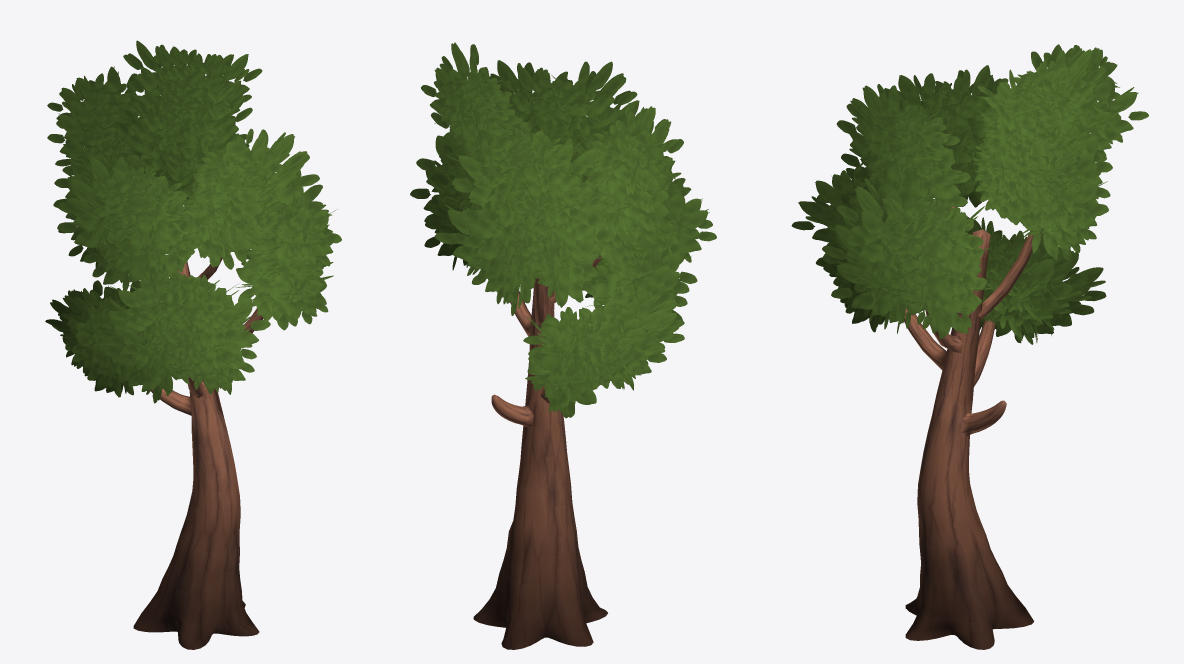
The model's file is Broadleaf_2.glb.
The picture shows the model from 3 angles, left to right: view 1: azimuth 30°, elevation 25°; view 2: azimuth 150°, elevation 25°; view 3: azimuth 270°, elevation 25°; orthographic projection. The views are drawn at different scales.
Parts seen in each view (by area): view 1: CommonTree_5; view 2: CommonTree_5; view 3: CommonTree_5.
Boxes of the visible parts, x1,y1,x2,y2 form: CommonTree_5: [45, 40, 341, 649]; CommonTree_5: [410, 42, 716, 649]; CommonTree_5: [791, 44, 1148, 649].
Size of the model in its own units: 3.67 by 7.01 by 4.22.
Materials: 2 (2 with a texture image).
